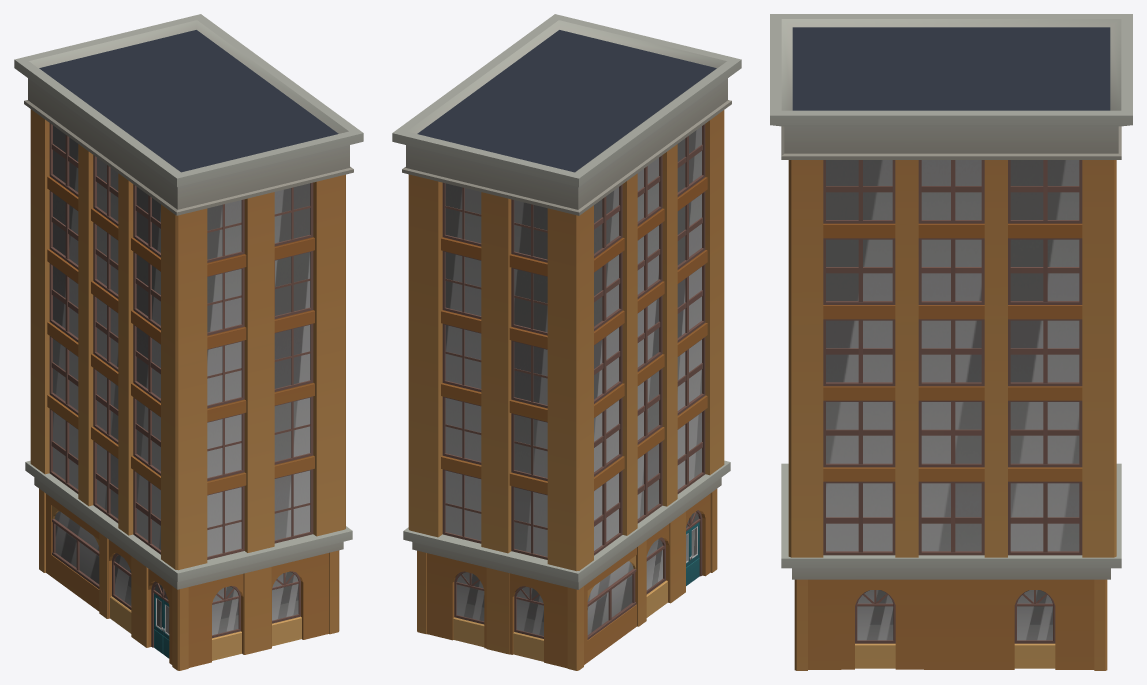
File: Building_27_B.fbx
The picture shows the model from 3 angles, left to right: view 1: azimuth 30°, elevation 25°; view 2: azimuth 150°, elevation 25°; view 3: azimuth 270°, elevation 25°; orthographic projection. The views are drawn at different scales.
Parts seen in each view (by area): view 1: Building_27_B; view 2: Building_27_B; view 3: Building_27_B.
Boxes of the visible parts, left/top/right/bottom form: Building_27_B: left=14, top=14, right=363, bottom=670; Building_27_B: left=392, top=14, right=741, bottom=670; Building_27_B: left=770, top=14, right=1132, bottom=670.
Bounding box in the file's own units: 765 × 1974 × 1155.
